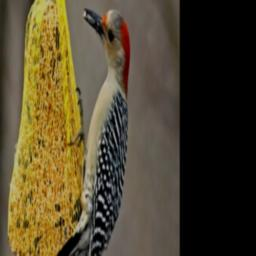Woodpecker: (38, 0, 143, 256)
